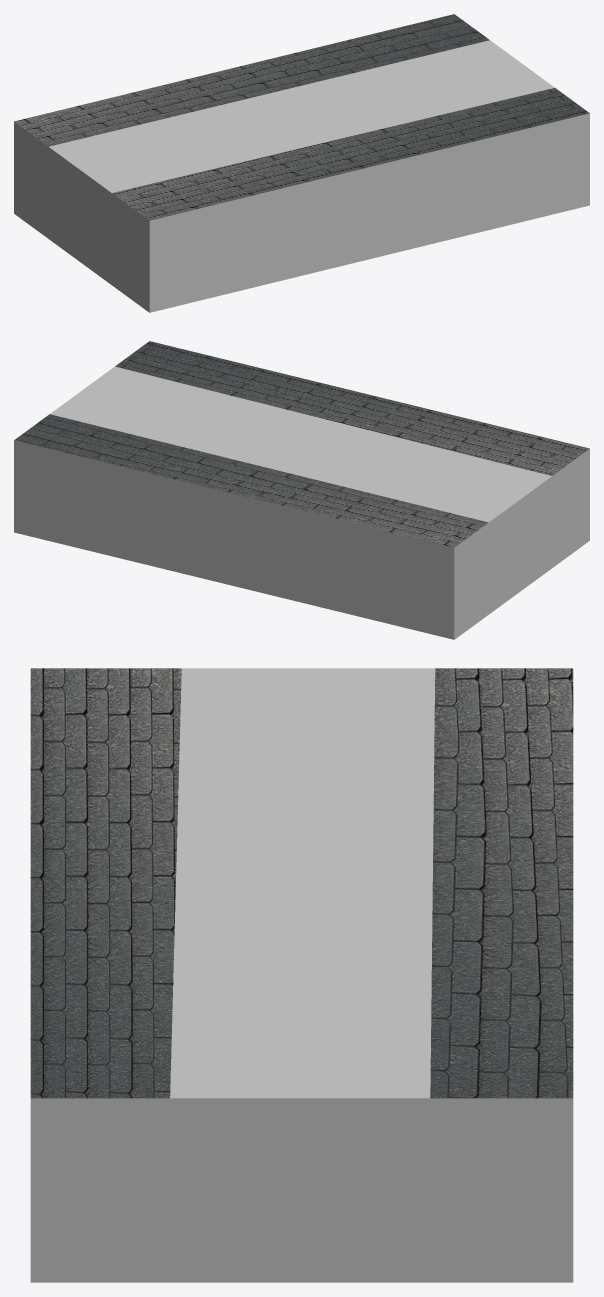
File: robdekon_halle_textured.dae
3 views of the same model, one above another, from view 1: azimuth 30°, elevation 25°; view 2: azimuth 150°, elevation 25°; view 3: azimuth 270°, elevation 25° (orthographic). The views are drawn at different scales.
Visible parts, largest first — view 1: Cube; view 2: Cube; view 3: Cube.
Part boxes in pixels (x1=…): Cube: x1=14, y1=14, x2=589, y2=312; Cube: x1=14, y1=341, x2=589, y2=639; Cube: x1=30, y1=668, x2=573, y2=1282.
Size of the model in its own units: 22.5 by 12 by 4.5.
